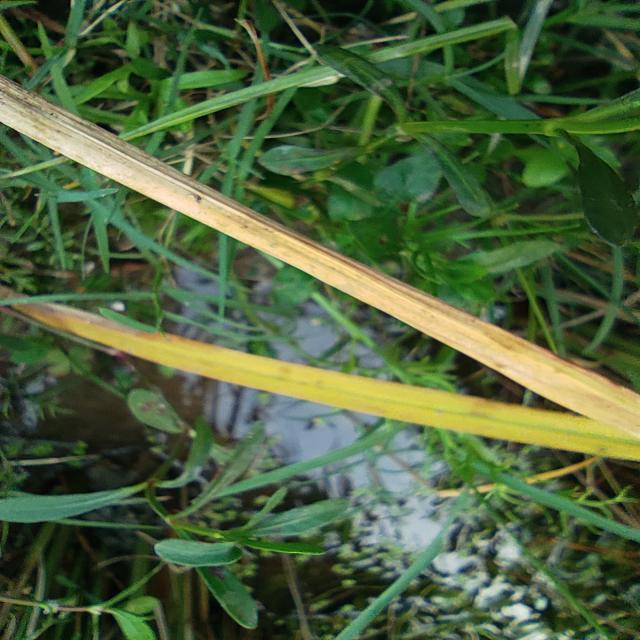Bacterial_Leaf_Blight: (0, 71, 640, 444)
